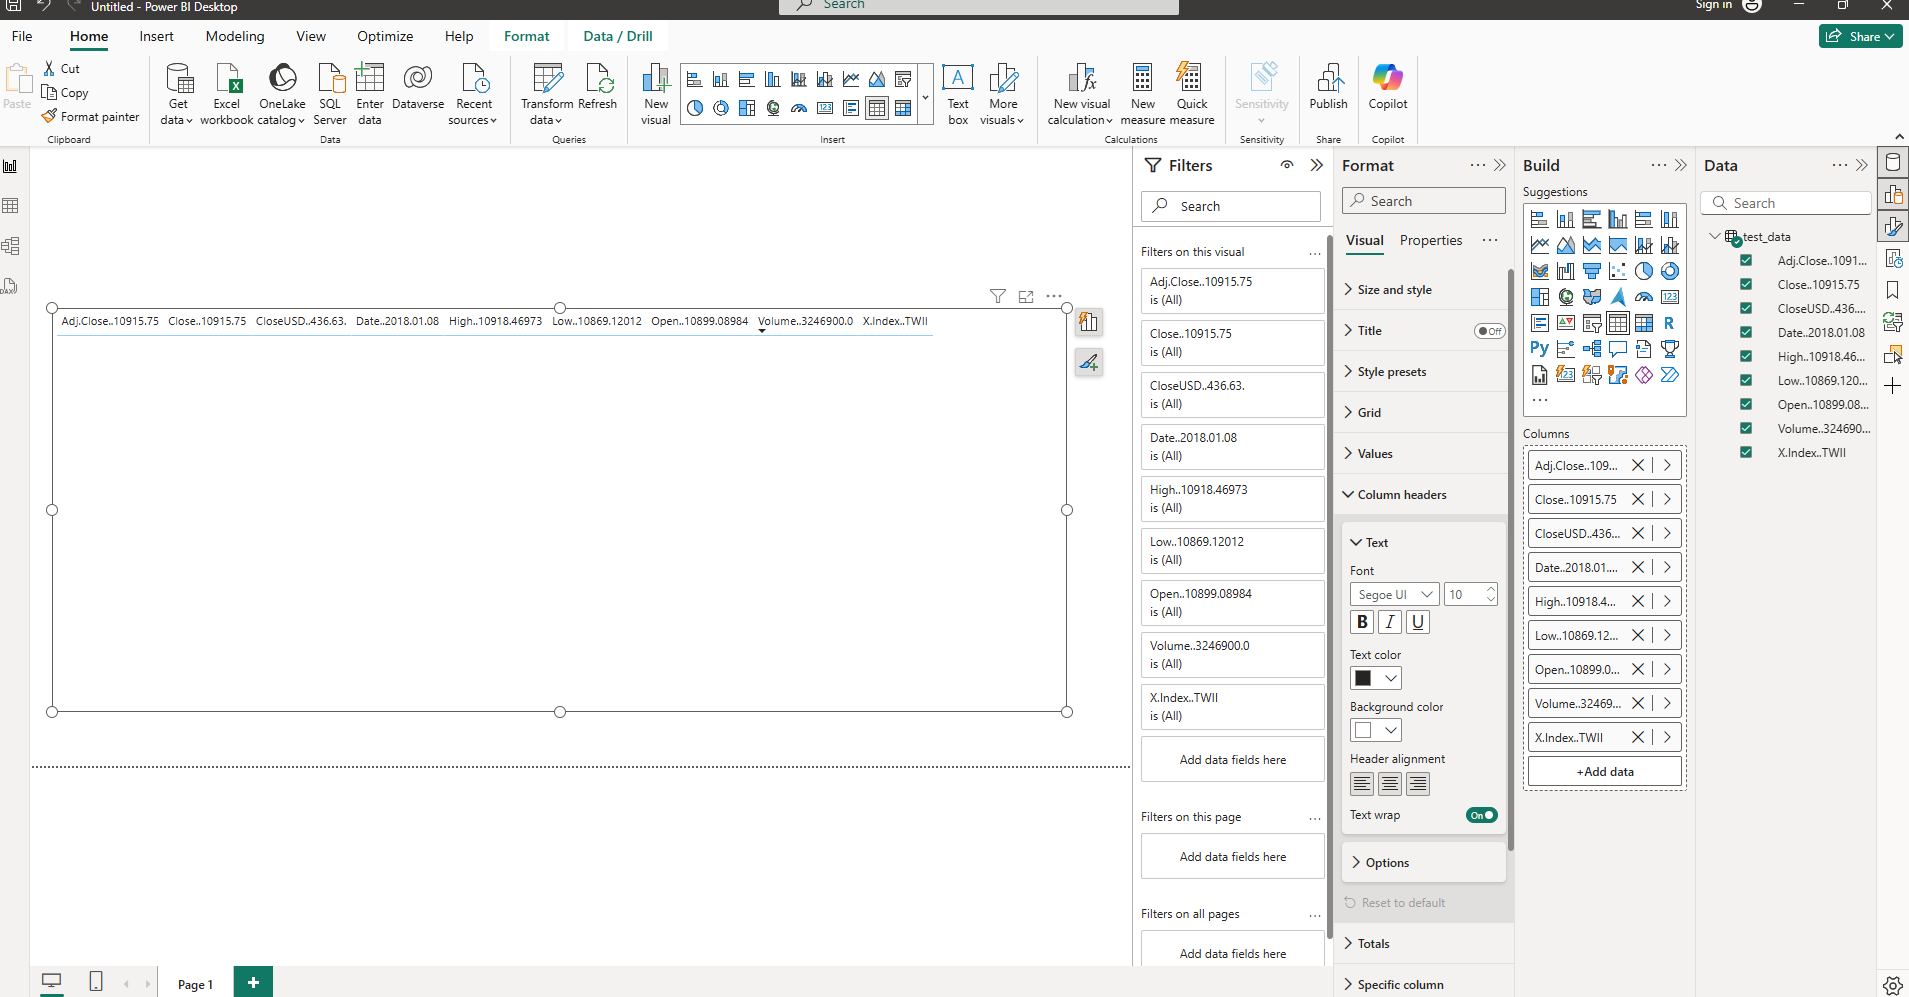

The dashboard page shown, as its layout file describes it:
{"tool":"powerbi","page":{"name":"AWS_S3_JSON","canvas":[1280,720],"ordinal":0},"visuals":[{"type":"tableEx","fields":{"Values":["test_data.Adj.Close..10915.75","test_data.Close..10915.75","test_data.CloseUSD..436.63.","test_data.Date..2018.01.08","test_data.High..10918.46973","test_data.Low..10869.12012","test_data.Open..10899.08984","test_data.Volume..3246900.0","test_data.X.Index..TWII"]},"box":[25.9,188.6,1178.2,468.9],"z":0}]}

Visuals, with their boxes on the page's 1280x720 design canvas (x1, y1, x2, y2). These are canvas units, not pixel positions in the 1909x997 screenshot, which may show the page scaled, cropped or inside an application window:
tableEx - test_data.Adj.Close..10915.75 x test_data.Close..10915.75: {"left": 26, "top": 189, "right": 1204, "bottom": 658}
